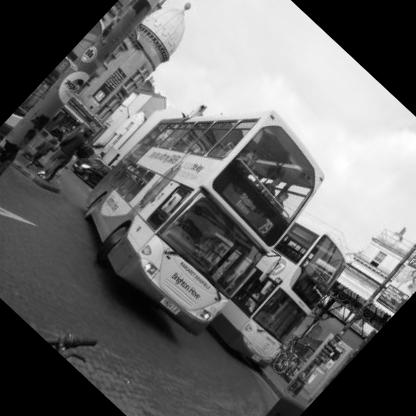ambulance: (32, 20, 371, 362)
